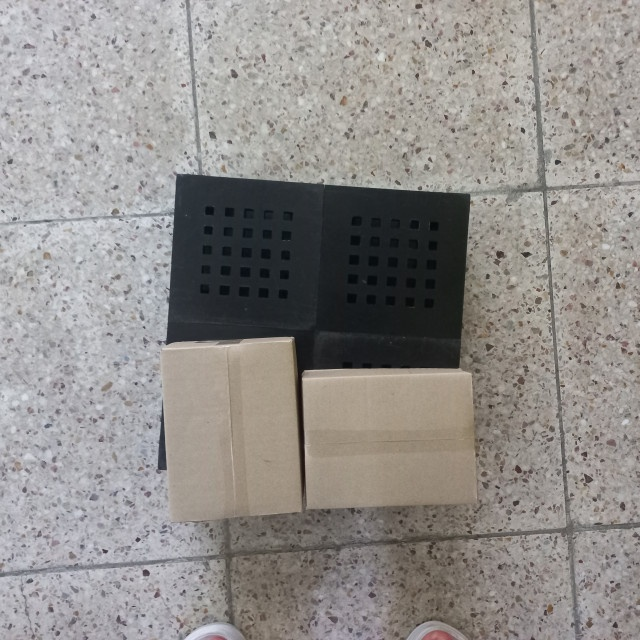box: (163, 334, 301, 525), (298, 369, 481, 513)
